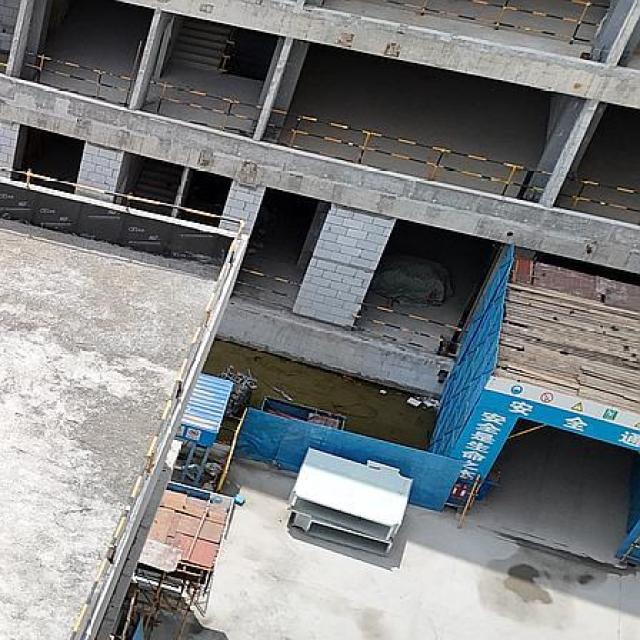edge_guardrail: (0, 149, 247, 637), (267, 108, 540, 196), (377, 0, 613, 46), (351, 300, 464, 359), (147, 80, 263, 130), (23, 50, 136, 99), (557, 175, 640, 214), (235, 266, 302, 301)
